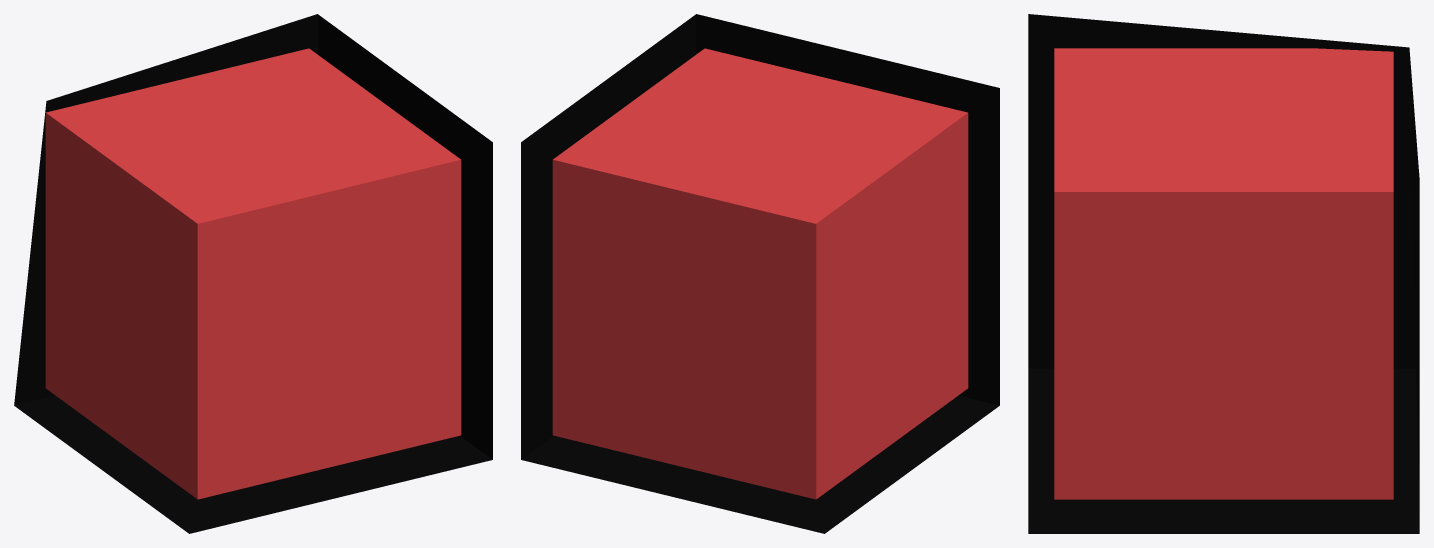
The model's file is okamitest_modelingfbx.fbx.
3 renders of one model, left to right at view 1: azimuth 30°, elevation 25°; view 2: azimuth 150°, elevation 25°; view 3: azimuth 270°, elevation 25°, orthographic. The views are drawn at different scales.
Visible parts, largest first — view 1: Cube, Cube.001; view 2: Cube, Cube.001; view 3: Cube, Cube.001.
Part boxes in pixels (x1,y1,x2,y2): Cube: [45, 48, 461, 499]; Cube.001: [14, 14, 492, 533]; Cube: [552, 48, 968, 499]; Cube.001: [521, 14, 999, 533]; Cube: [1054, 48, 1393, 499]; Cube.001: [1028, 14, 1419, 533].
Size of the model in its own units: 230 by 230 by 230.
